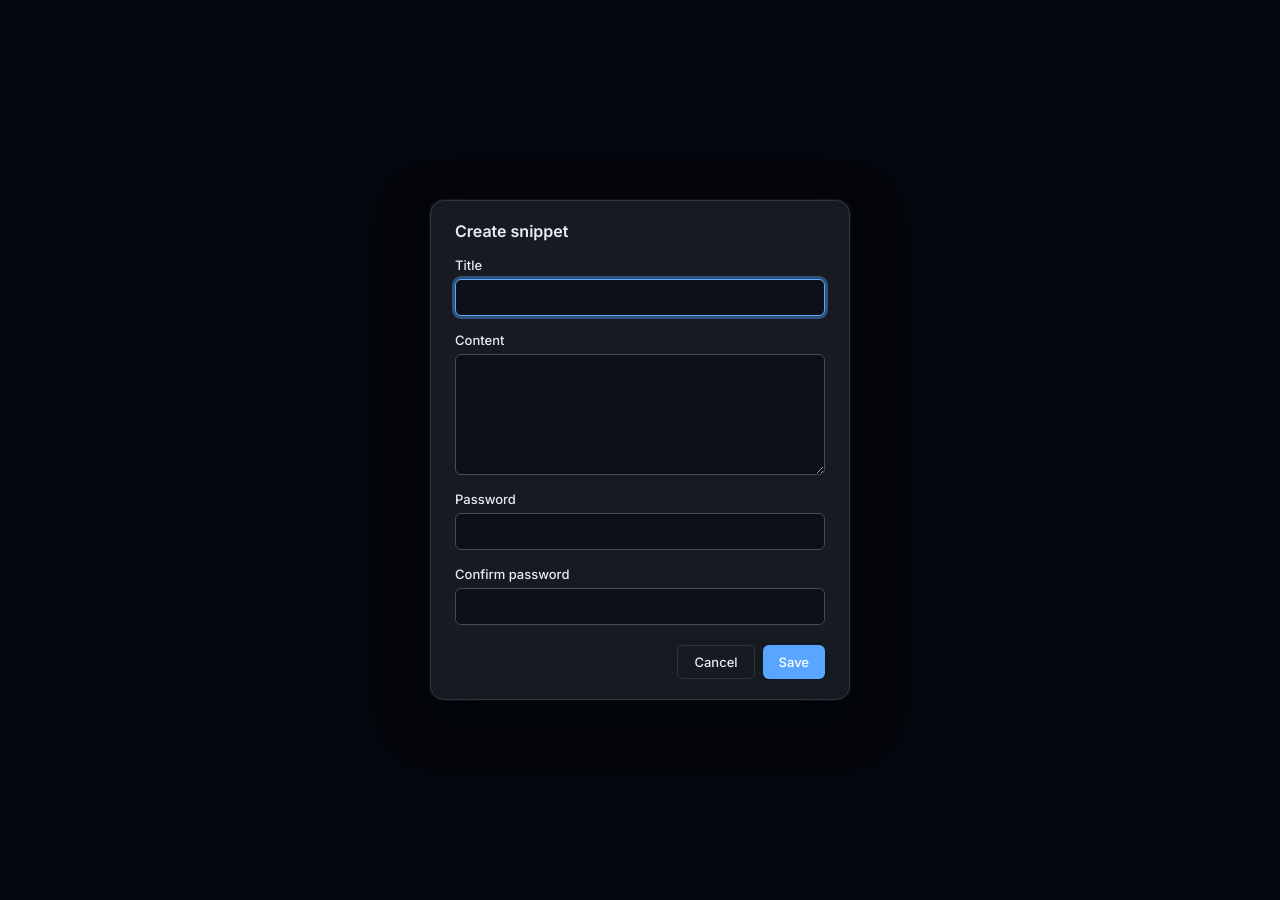
Scenario: CreateSnippetModal › validates content required on save click
In the field labelled "Title": (640, 298) [455,279,825,316], type "Valid Title"
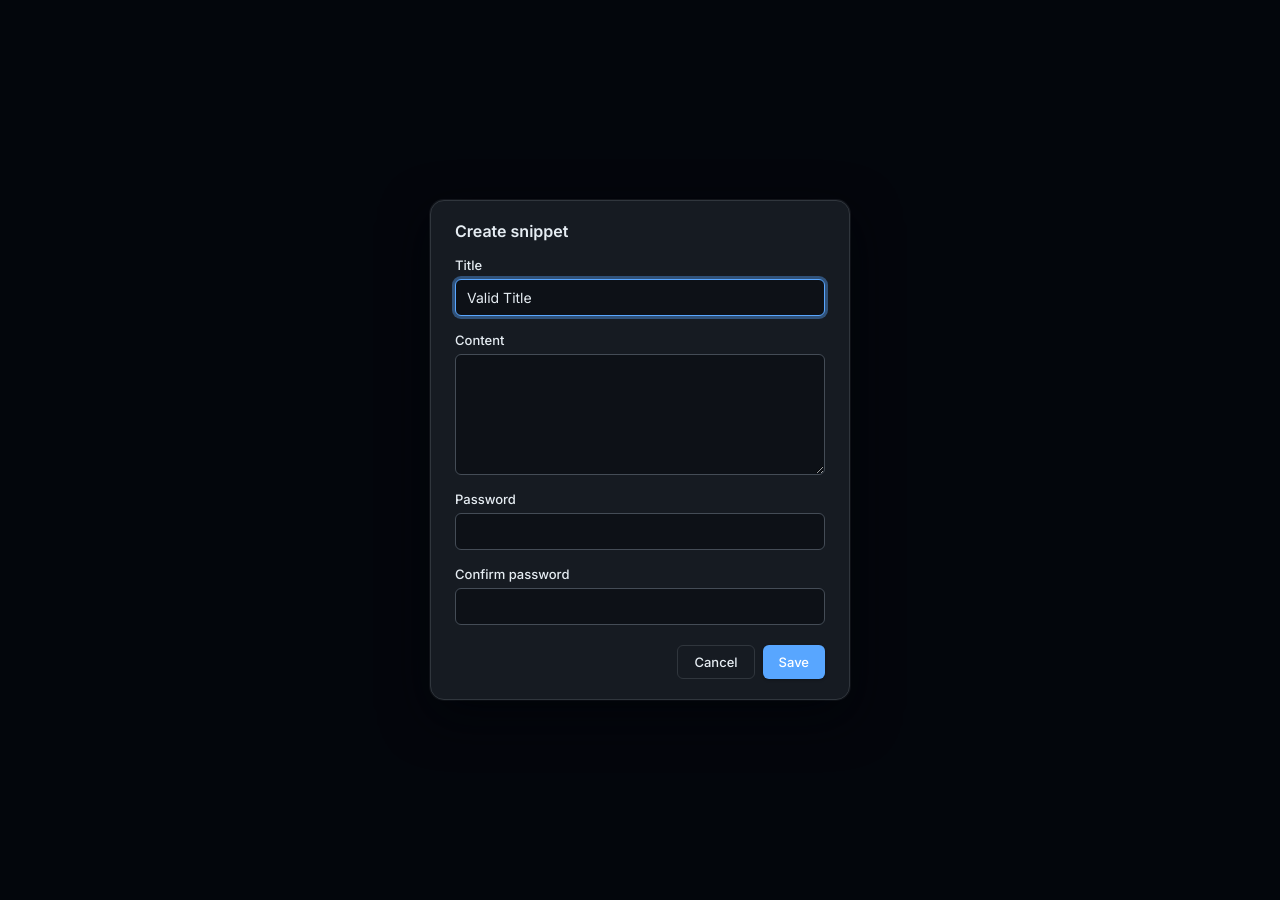
Click the button "Save": (794, 662) [762,645,825,680]
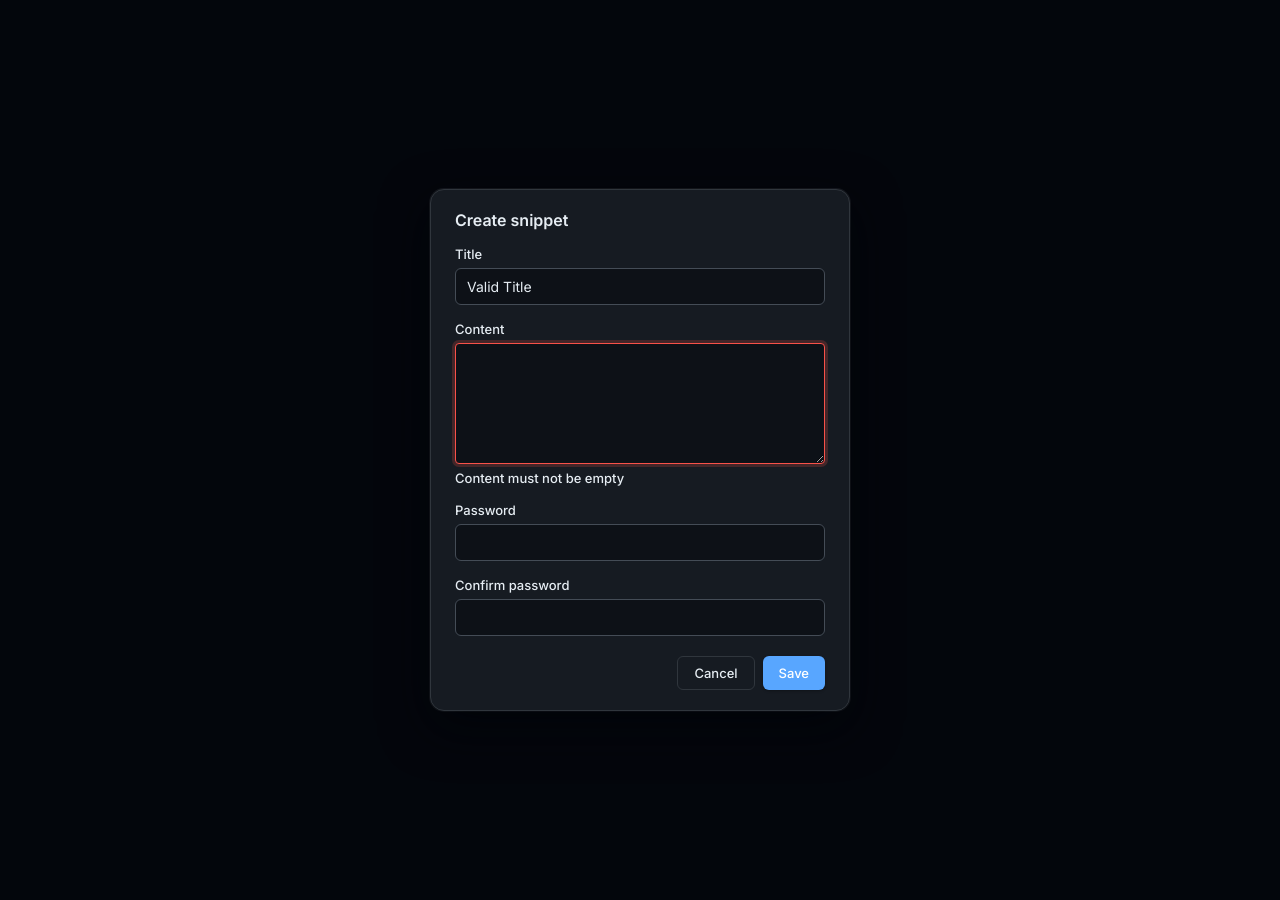
Expected: the message "Content must not be empty" is shown, [455,470,624,486]
